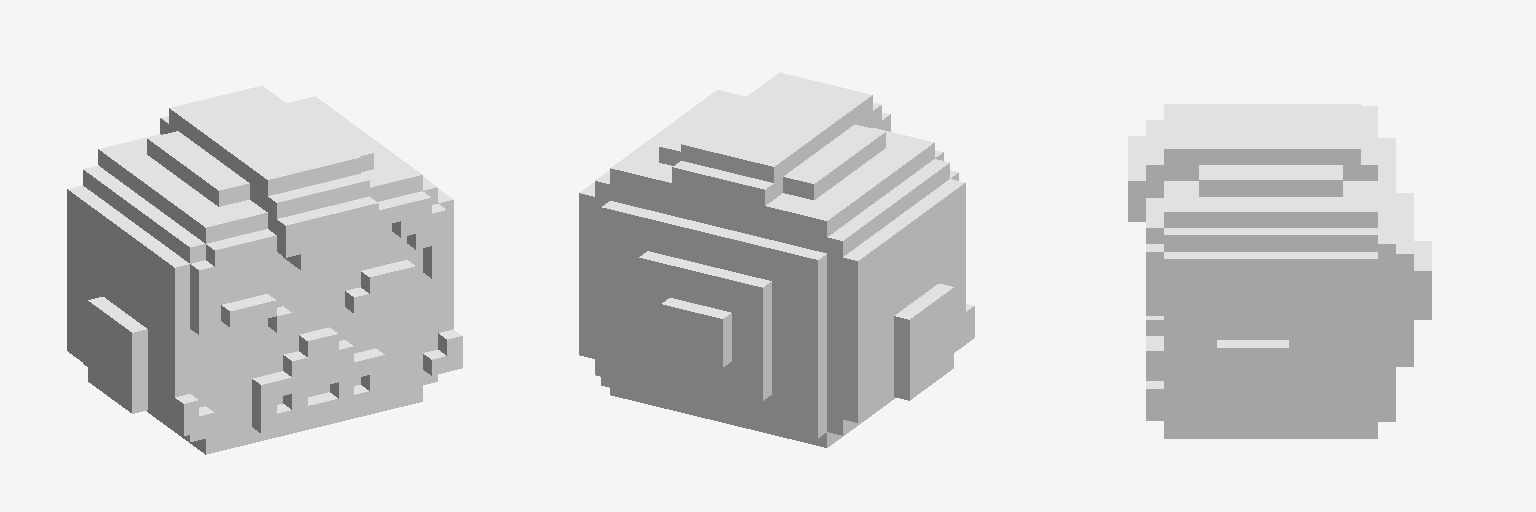
Rendered from player2Head.obj.
The picture shows the model from 3 angles: view 1: azimuth 30°, elevation 25°; view 2: azimuth 150°, elevation 25°; view 3: azimuth 270°, elevation 25°; orthographic projection.
Parts seen in each view (by area): view 1: player2Head; view 2: player2Head; view 3: player2Head.
Part boxes in pixels (bbox=[...]): player2Head: bbox=[67, 86, 462, 454]; player2Head: bbox=[579, 72, 974, 447]; player2Head: bbox=[1128, 104, 1431, 438].
Size of the model in its own units: 20 by 16 by 17.